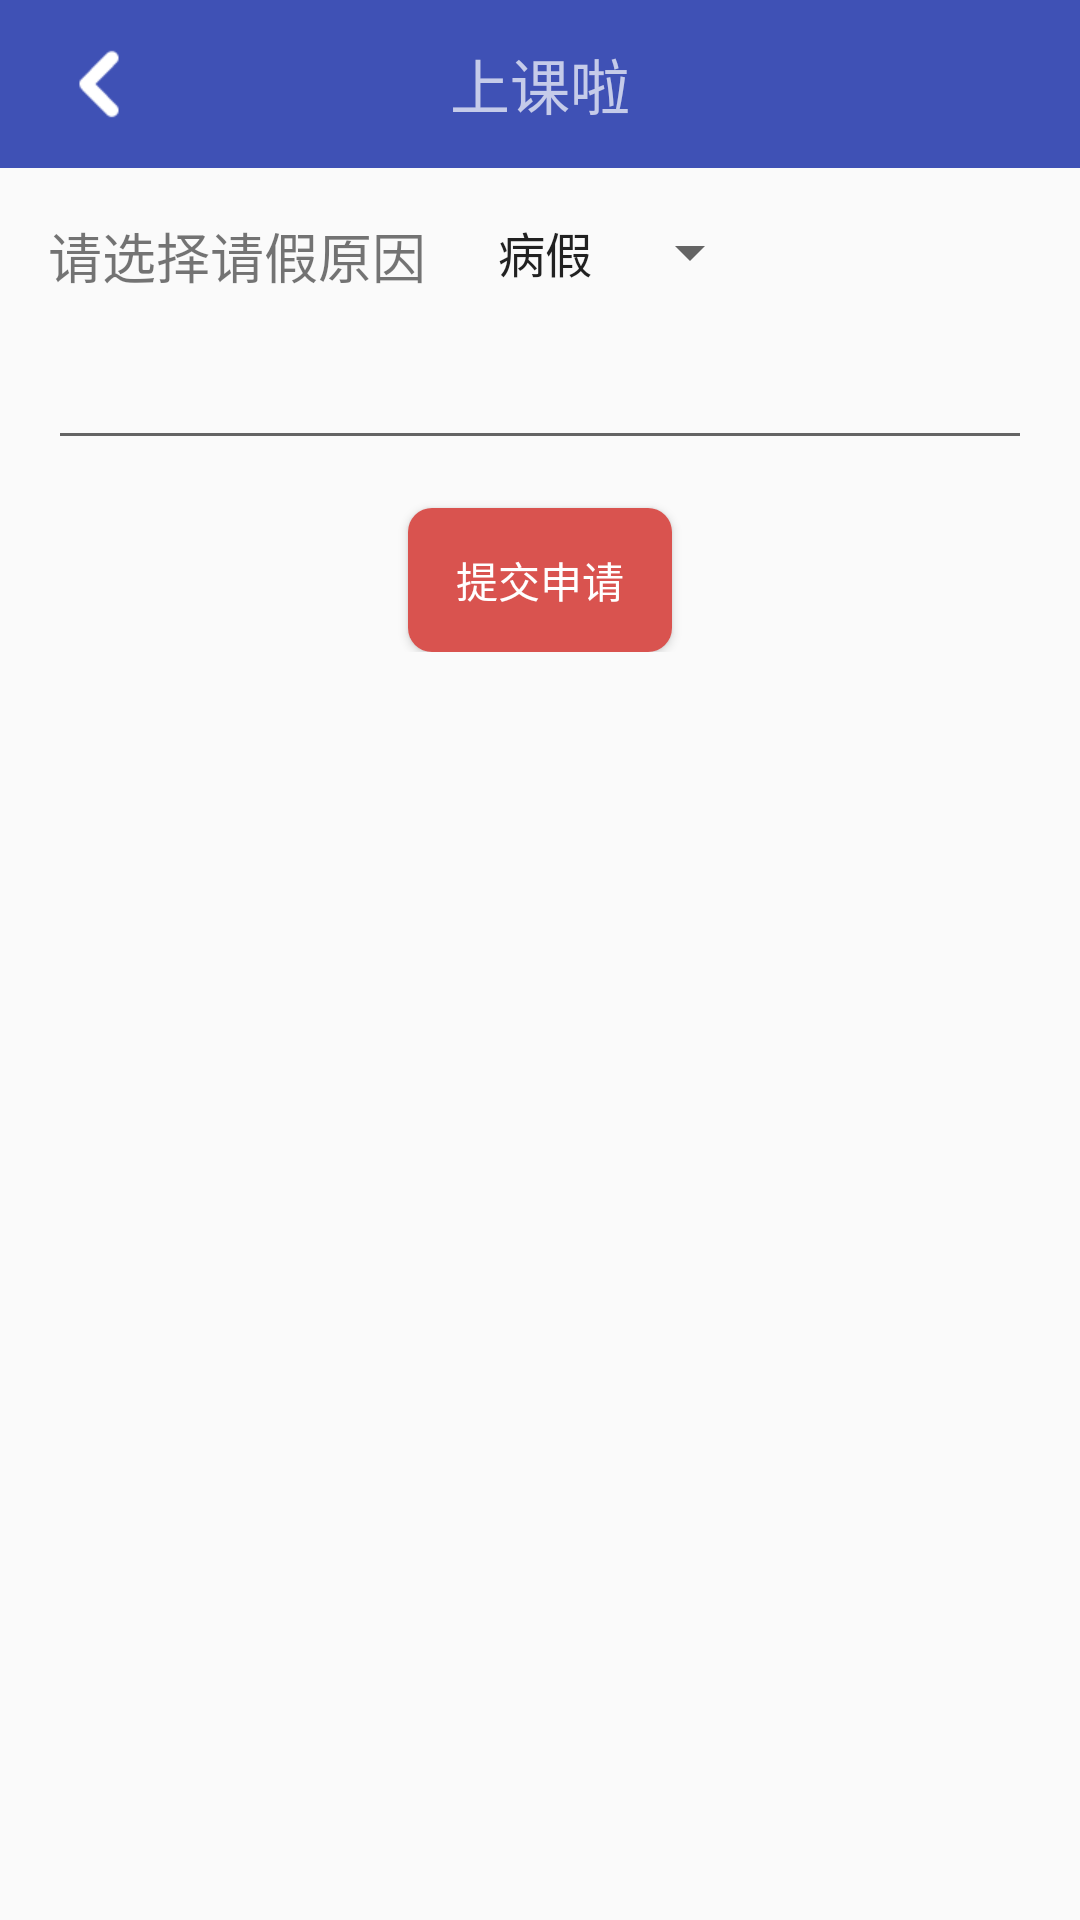

Screen size 1080x1920. Icon name, then its box in pixels as bbox=(x1, y1, x2, y2):
back: bbox=(79, 51, 119, 118)
